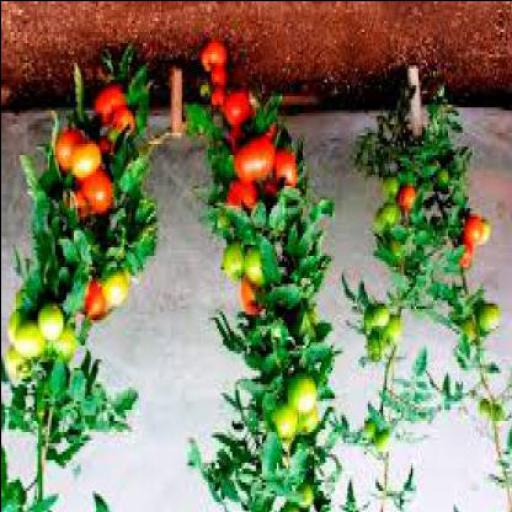biodegradable: (232, 132, 276, 184), (263, 143, 296, 202), (80, 268, 113, 325), (82, 165, 114, 215), (96, 81, 128, 126), (224, 179, 260, 219), (103, 266, 132, 314), (57, 126, 82, 177), (15, 318, 44, 360), (289, 374, 318, 416), (225, 89, 257, 126), (71, 140, 103, 176), (50, 327, 78, 367), (244, 246, 268, 291), (220, 243, 246, 283), (272, 405, 298, 445), (2, 350, 30, 386), (478, 299, 503, 339), (110, 104, 136, 140), (242, 279, 264, 319), (39, 305, 63, 341), (462, 210, 482, 249), (376, 204, 401, 235), (298, 406, 320, 440), (378, 238, 402, 268), (385, 313, 404, 350), (454, 238, 473, 274), (201, 40, 227, 66), (365, 330, 383, 364), (399, 184, 417, 218), (365, 305, 389, 330), (9, 308, 24, 347), (294, 486, 316, 511), (97, 131, 115, 159), (207, 67, 229, 89), (210, 84, 229, 109), (374, 431, 392, 456), (438, 168, 452, 199), (464, 318, 476, 350), (478, 222, 494, 246), (363, 417, 378, 442), (200, 82, 210, 104), (482, 400, 492, 420), (494, 403, 504, 423)
